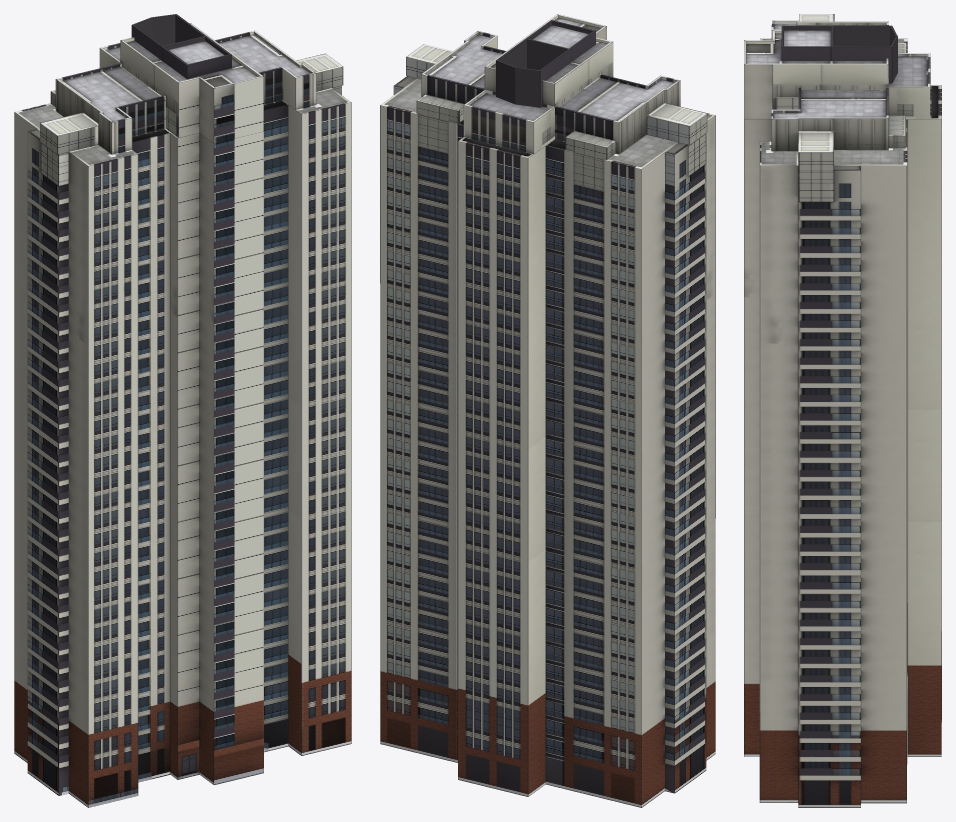
The model's file is 10_jianzhu_init.FBX.
3 renders of one model, left to right at view 1: azimuth 30°, elevation 25°; view 2: azimuth 150°, elevation 25°; view 3: azimuth 270°, elevation 25°, orthographic.
Parts seen in each view (by area): view 1: 10_jianzhu_init; view 2: 10_jianzhu_init; view 3: 10_jianzhu_init.
Boxes of the visible parts, bbox=[...] form: 10_jianzhu_init: bbox=[14, 14, 351, 807]; 10_jianzhu_init: bbox=[380, 14, 715, 807]; 10_jianzhu_init: bbox=[744, 14, 941, 807].
Bounding box in the file's own units: 3740 × 8859 × 2261.
